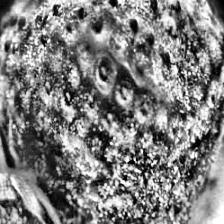Powdery Mildew Fruit: (0, 0, 224, 224), (0, 168, 44, 224)
